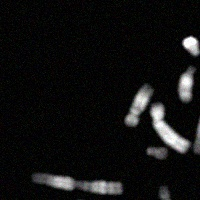chromosome: (150, 102, 189, 153), (31, 174, 122, 195), (124, 83, 153, 127), (177, 65, 196, 102), (193, 69, 200, 154), (182, 35, 199, 56), (147, 146, 168, 160), (159, 185, 173, 200), (68, 199, 87, 200)
